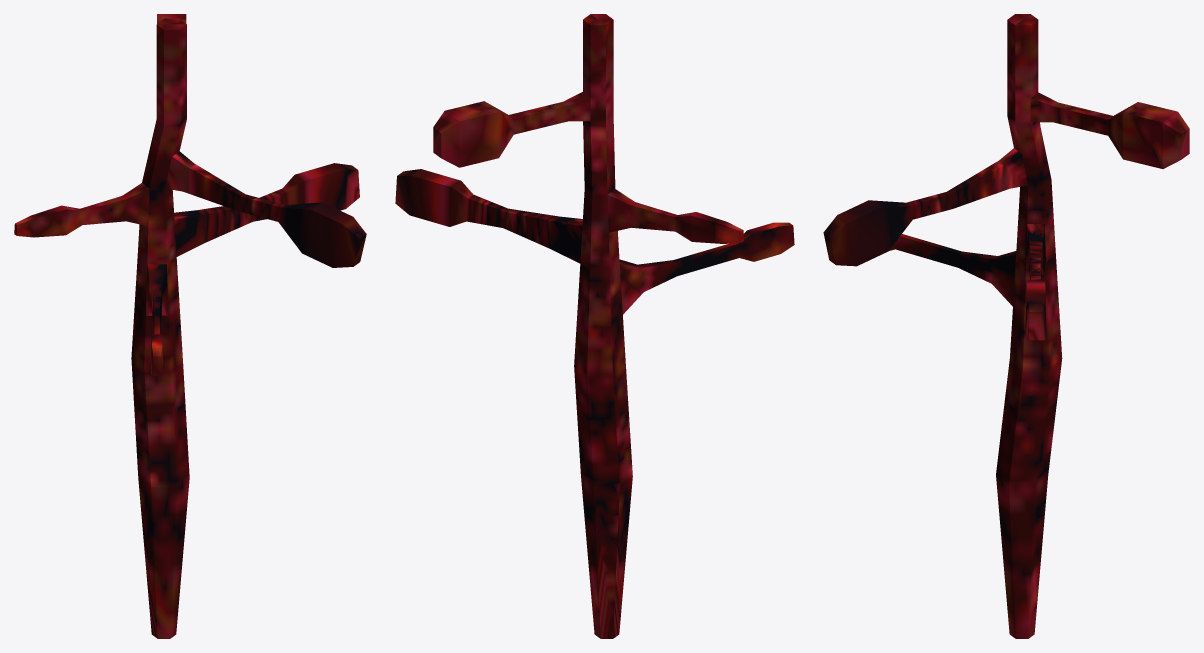
The model's file is Stalk.glb.
3 renders of one model, left to right at view 1: azimuth 30°, elevation 25°; view 2: azimuth 150°, elevation 25°; view 3: azimuth 270°, elevation 25°, orthographic.
Visible parts, largest first — view 1: Stalk; view 2: Stalk; view 3: Stalk.
Part boxes in pixels (x1,y1,x2,y2): Stalk: (14,14,366,638); Stalk: (395,14,794,638); Stalk: (823,14,1189,638).
Bounding box in the file's own units: 1.86 × 3.17 × 1.7.
1 material, 1 textured.
